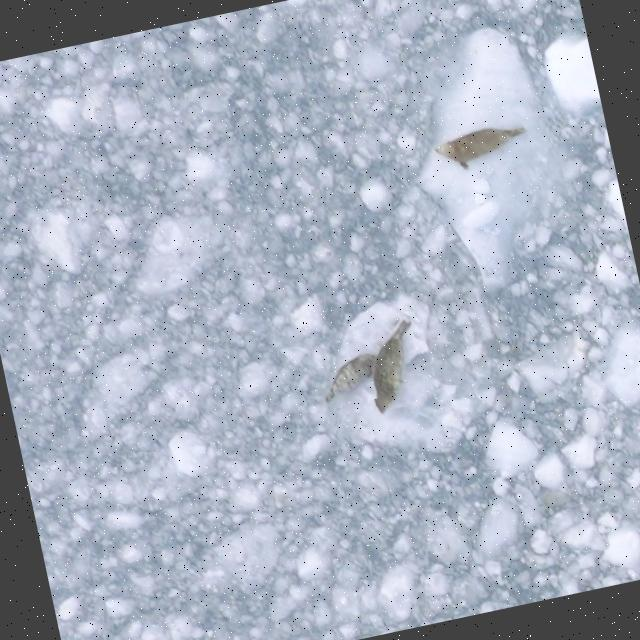seal: (356, 313, 433, 421), (425, 118, 537, 179), (312, 345, 394, 409)
